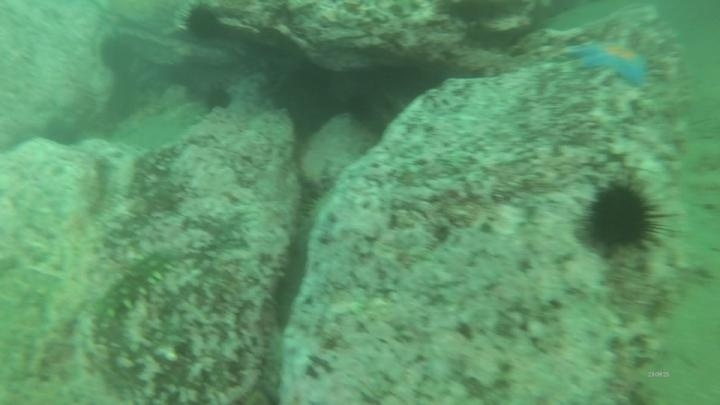echinus: (576, 177, 668, 258), (97, 32, 139, 76), (181, 3, 225, 44), (200, 83, 235, 114)
holothurian: (89, 246, 181, 335)
starfish: (564, 37, 656, 89)
